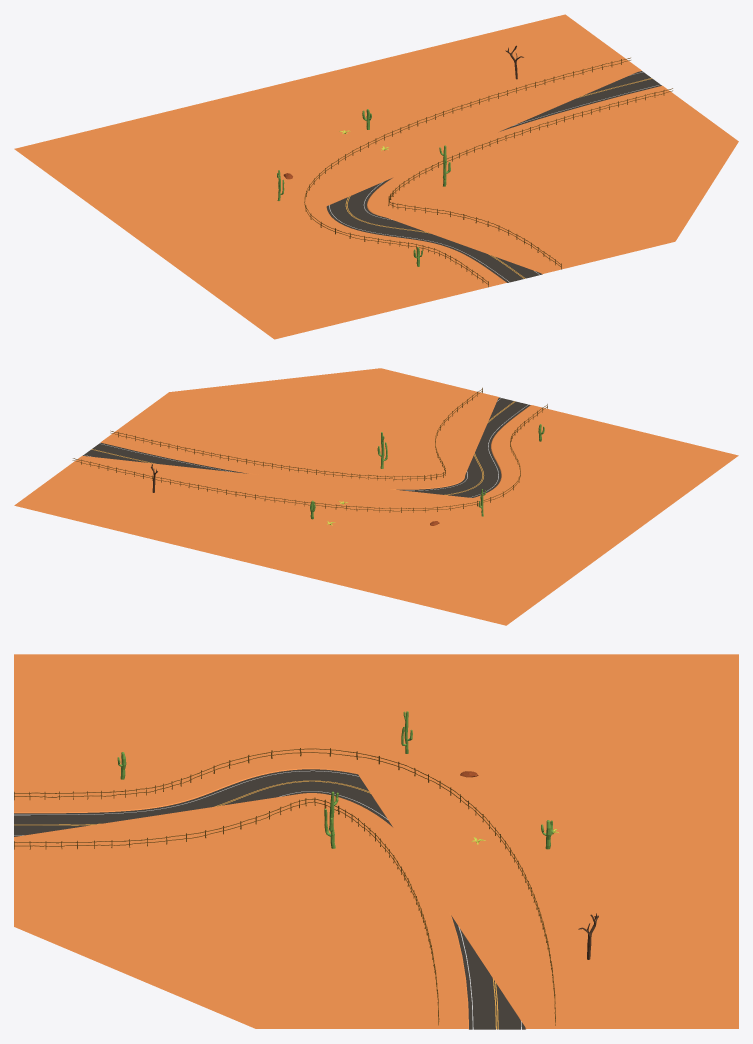
The model's file is DesertRoadRight2.fbx.
The picture shows the model from 3 angles, top to bottom: view 1: azimuth 30°, elevation 25°; view 2: azimuth 150°, elevation 25°; view 3: azimuth 270°, elevation 25°; orthographic projection. The views are drawn at different scales.
Parts seen in each view (by area): view 1: DRR2Road, DRR2WoodFenceRight, DRR2WoodFenceLeft; view 2: DRR2Road, DRR2WoodFenceRight, DRR2WoodFenceLeft; view 3: DRR2Road, DRR2WoodFenceRight, DRR2WoodFenceLeft.
Boxes of the visible parts, left/top/right/bottom form: DRR2Road: left=14, top=14, right=738, bottom=339; DRR2WoodFenceRight: left=304, top=57, right=630, bottom=287; DRR2WoodFenceLeft: left=388, top=88, right=672, bottom=269; DRR2Road: left=14, top=368, right=738, bottom=625; DRR2WoodFenceRight: left=72, top=404, right=547, bottom=512; DRR2WoodFenceLeft: left=110, top=387, right=482, bottom=480; DRR2Road: left=14, top=654, right=738, bottom=1029; DRR2WoodFenceRight: left=14, top=748, right=555, bottom=1025; DRR2WoodFenceLeft: left=14, top=797, right=439, bottom=1025.
Size of what is drawn, in the model's own units: 22000 by 1595 by 18000.
